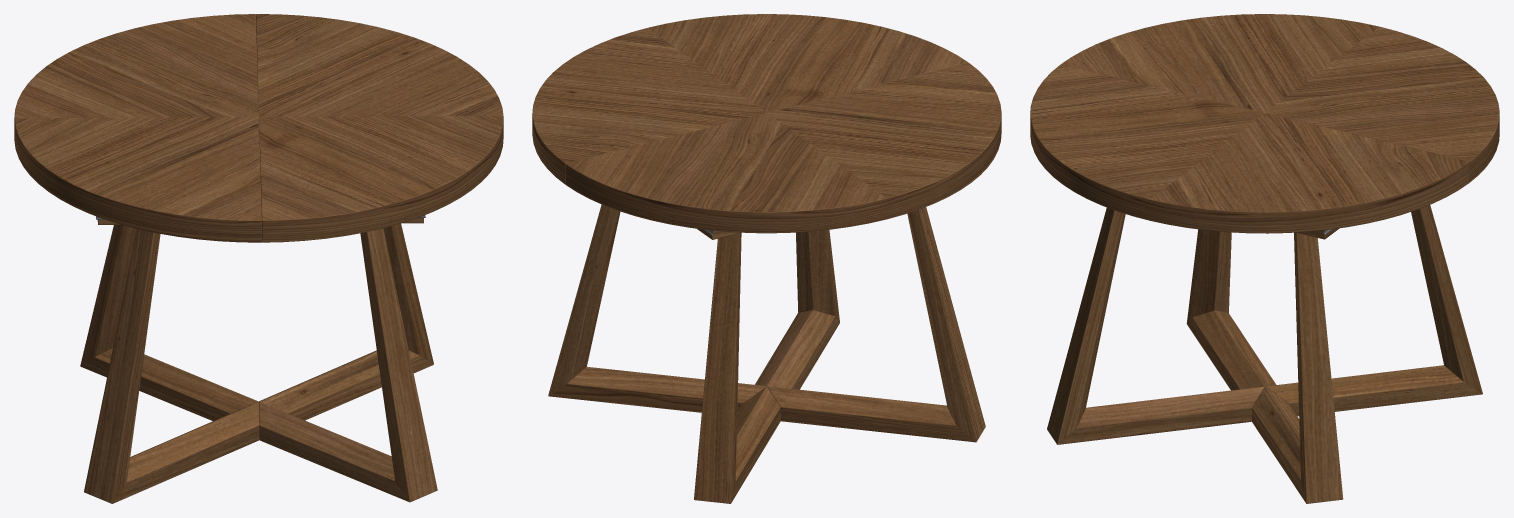
The model's file is belgrave_extending_dining_table_dark_oak.glb.
3 renders of one model, left to right at view 1: azimuth 30°, elevation 25°; view 2: azimuth 150°, elevation 25°; view 3: azimuth 270°, elevation 25°, orthographic. The views are drawn at different scales.
Parts seen in each view (by area): view 1: Belgrave_Extending_Table; view 2: Belgrave_Extending_Table; view 3: Belgrave_Extending_Table.
Part boxes in pixels (x1,y1,x2,y2): Belgrave_Extending_Table: (14, 14, 503, 503); Belgrave_Extending_Table: (532, 14, 1001, 503); Belgrave_Extending_Table: (1030, 14, 1499, 503).
Size of what is drawn, in the model's own units: 120 by 84.3 by 120.
2 materials, 1 textured.
